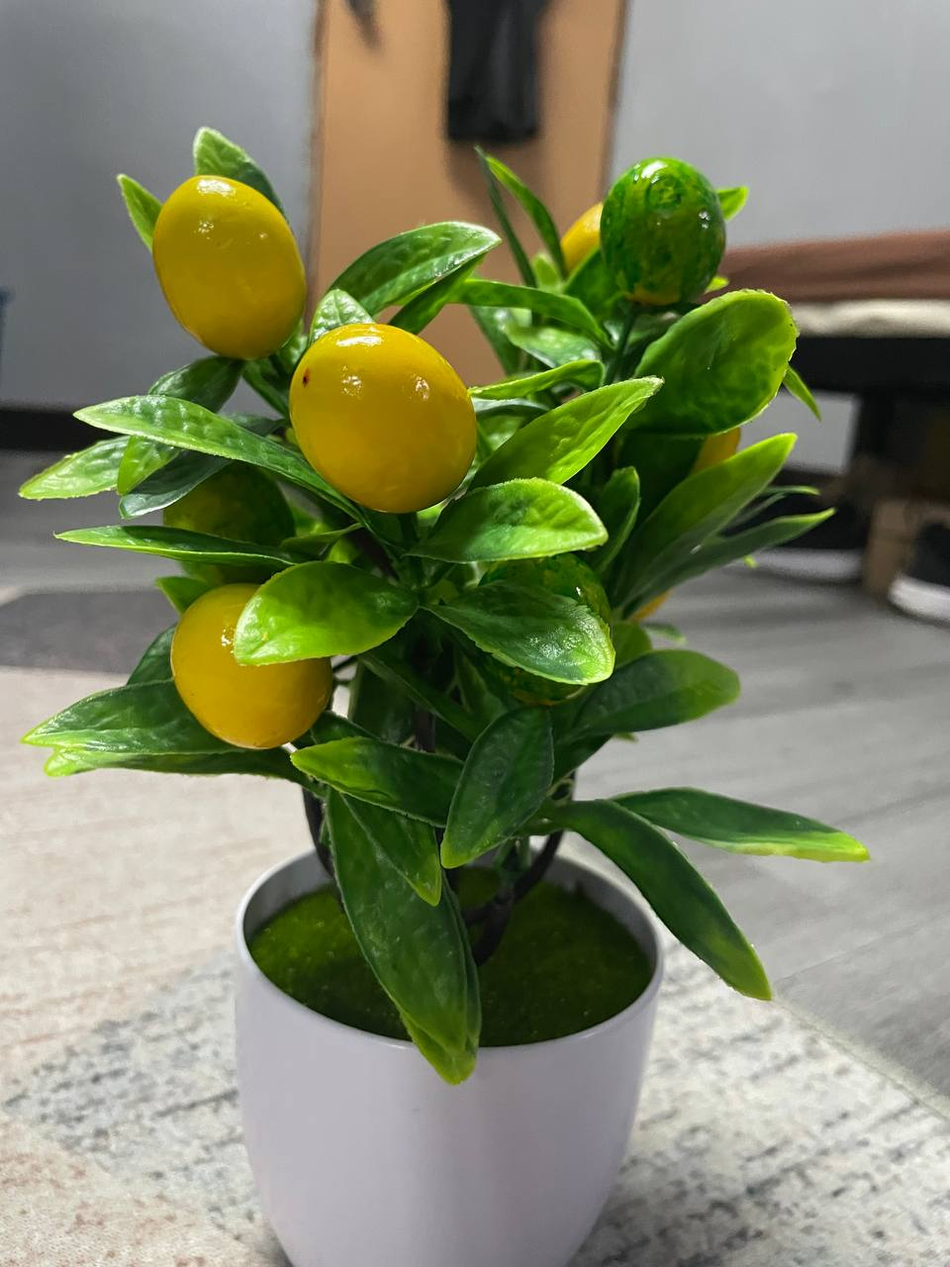lime_ripe: (288, 323, 476, 514), (152, 174, 306, 361), (169, 584, 330, 752)
lime_unripe: (598, 157, 724, 306)
